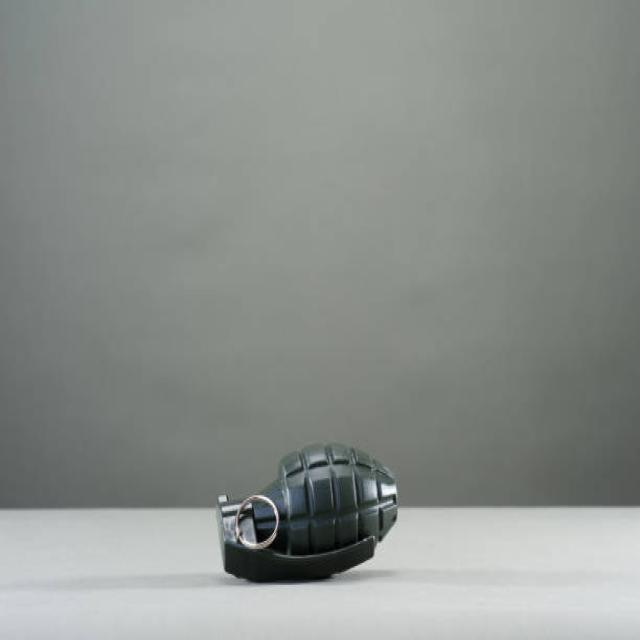grenade: (212, 442, 403, 586)
